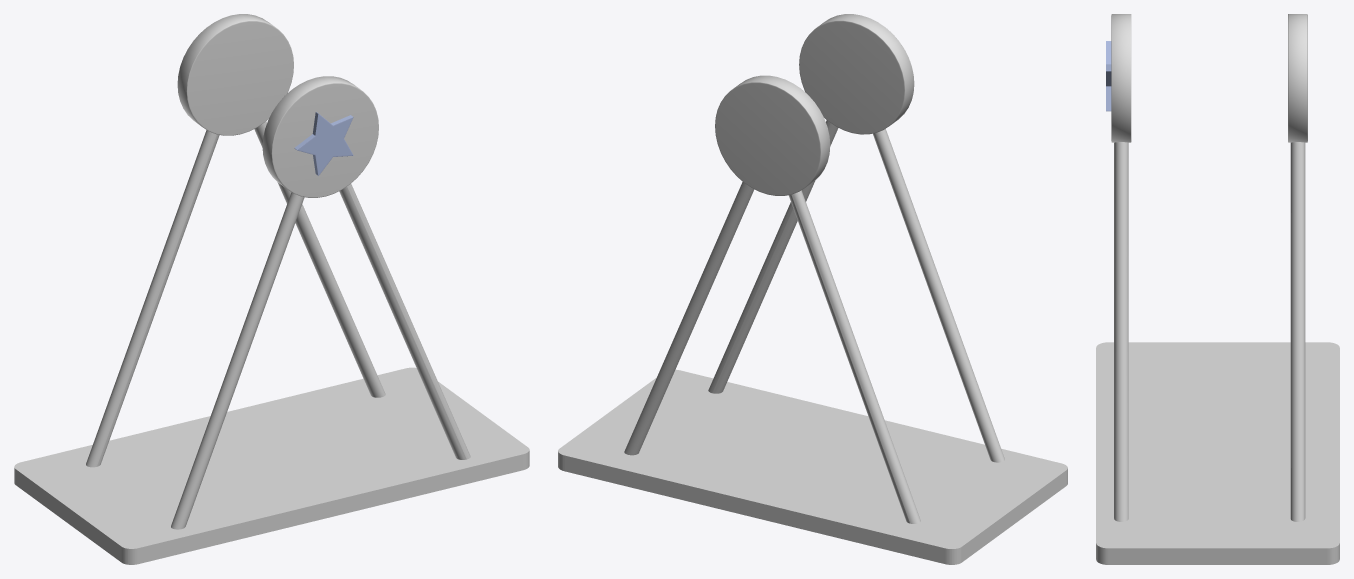
File: FerrisWheel03.glb
3 views of the same model, side by side, from view 1: azimuth 30°, elevation 25°; view 2: azimuth 150°, elevation 25°; view 3: azimuth 270°, elevation 25° (orthographic). The views are drawn at different scales.
Visible parts, largest first — view 1: FerrisWheel00, Cylinder.004, Cylinder.015, Cylinder.017, Star; view 2: FerrisWheel00, Cylinder.004, Cylinder.017, Cylinder.015; view 3: FerrisWheel00, Cylinder.017, Cylinder.015, Cylinder.004, Star.
Part boxes in pixels (x1,y1,x2,y2): FerrisWheel00: (14, 367, 529, 564); Cylinder.004: (177, 14, 378, 197); Cylinder.015: (171, 183, 470, 529); Cylinder.017: (86, 121, 385, 467); Star: (294, 112, 353, 175); FerrisWheel00: (558, 369, 1067, 564); Cylinder.004: (715, 14, 914, 195); Cylinder.017: (624, 182, 920, 523); Cylinder.015: (708, 120, 1004, 462); FerrisWheel00: (1096, 342, 1339, 564); Cylinder.017: (1290, 142, 1305, 521); Cylinder.015: (1114, 142, 1128, 521); Cylinder.004: (1111, 14, 1307, 142); Star: (1106, 41, 1111, 111).
Size of the model in its own units: 2 by 2.01 by 1.
